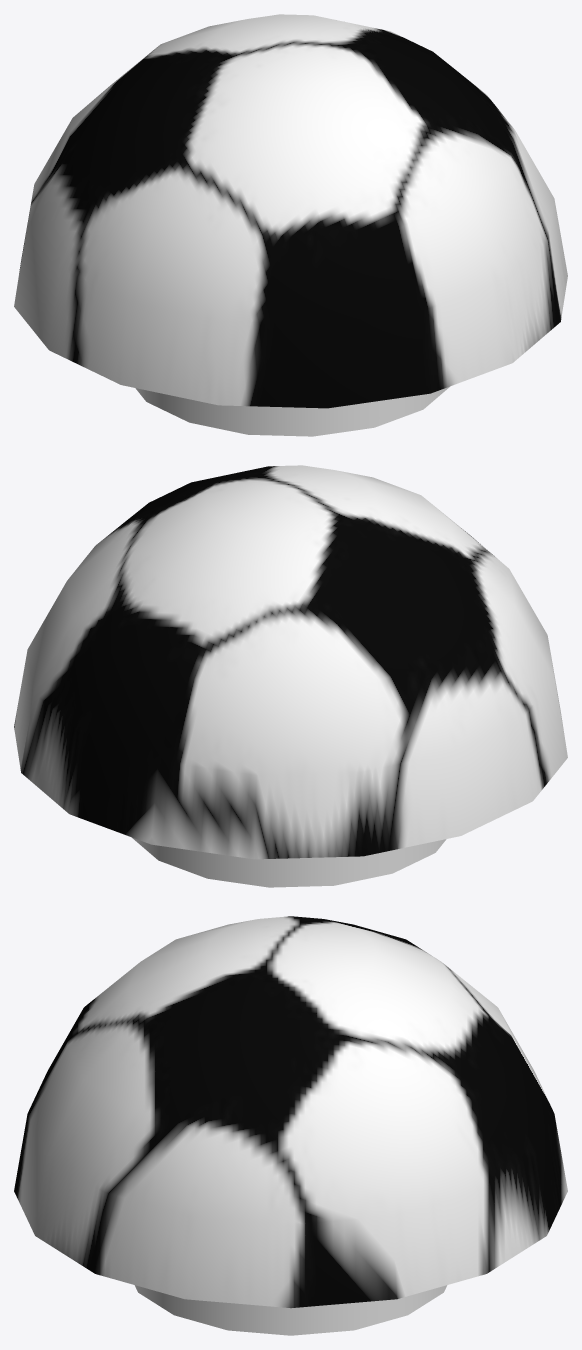
File: Aimant_soccer.fbx
3 renders of one model, top to bottom at view 1: azimuth 30°, elevation 25°; view 2: azimuth 150°, elevation 25°; view 3: azimuth 270°, elevation 25°, orthographic.
Parts seen in each view (by area): view 1: Aimant_soccer; view 2: Aimant_soccer; view 3: Aimant_soccer.
Part boxes in pixels (x1,y1,x2,y2): Aimant_soccer: (14, 14, 567, 436); Aimant_soccer: (14, 465, 567, 887); Aimant_soccer: (14, 916, 567, 1335).
Bounding box in the file's own units: 2.22 × 1.44 × 2.22.
